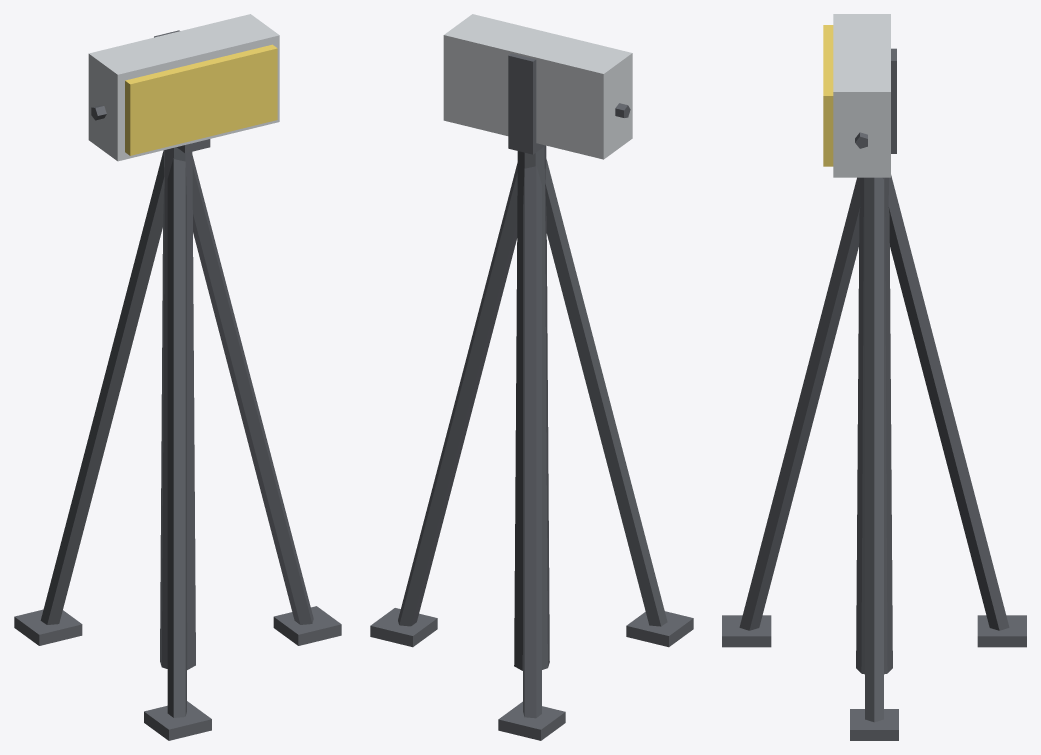
3 views of the same model, side by side, from view 1: azimuth 30°, elevation 25°; view 2: azimuth 150°, elevation 25°; view 3: azimuth 270°, elevation 25° (orthographic).
Visible parts, largest first — view 1: flood-lamp-charcoal, head/gold, head/steel; view 2: flood-lamp-charcoal, head/steel, head/charcoal; view 3: flood-lamp-charcoal, head/steel, head/gold, head/charcoal.
Part boxes in pixels (x1,y1,x2,y2): flood-lamp-charcoal: (14, 147, 341, 740); head/gold: (125, 44, 277, 155); head/steel: (88, 14, 279, 161); flood-lamp-charcoal: (370, 145, 693, 740); head/steel: (443, 14, 632, 159); head/charcoal: (508, 53, 630, 154); flood-lamp-charcoal: (722, 175, 1026, 740); head/steel: (833, 14, 890, 177); head/gold: (823, 25, 833, 166); head/charcoal: (855, 48, 896, 153).
Size of the model in its own units: 1.34 by 3.32 by 1.49.
